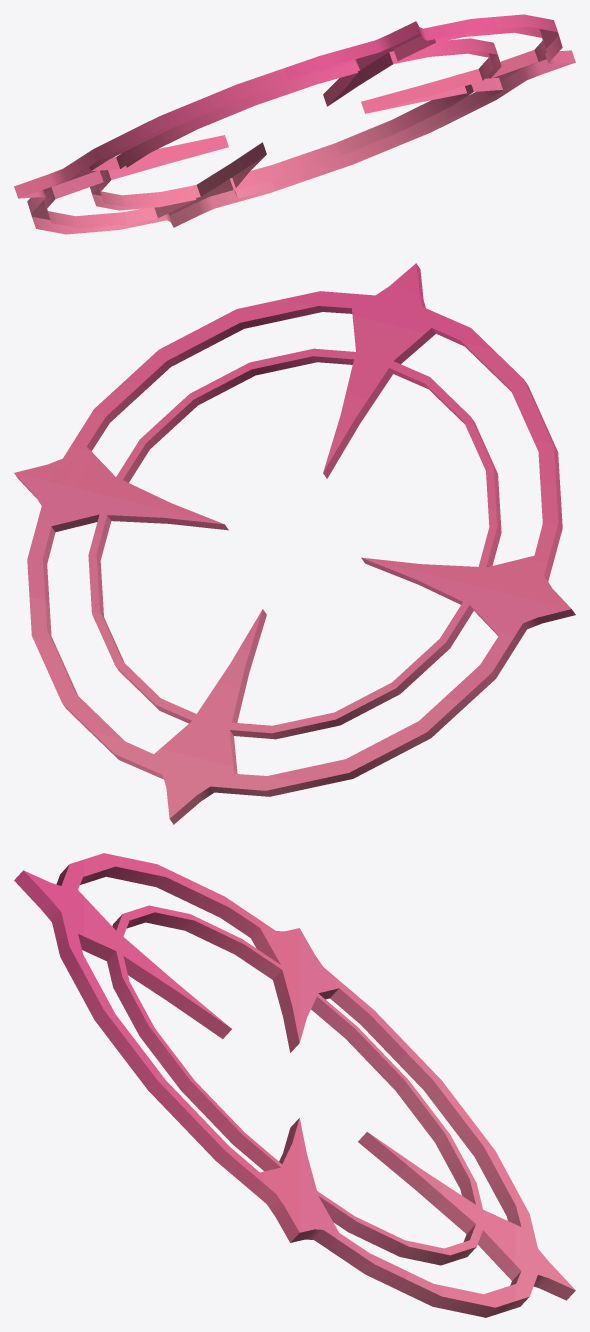
3 renders of one model, top to bottom at view 1: azimuth 30°, elevation 25°; view 2: azimuth 150°, elevation 25°; view 3: azimuth 270°, elevation 25°, orthographic. The views are drawn at different scales.
Parts seen in each view (by area): view 1: Momoi_Original_Halo; view 2: Momoi_Original_Halo; view 3: Momoi_Original_Halo.
Part boxes in pixels (bbox=[...]): Momoi_Original_Halo: bbox=[14, 14, 575, 234]; Momoi_Original_Halo: bbox=[14, 263, 575, 824]; Momoi_Original_Halo: bbox=[14, 853, 575, 1317].
Size of the model in its own units: 0.2985 by 0.1965 by 0.2326.
Materials: 1 (1 with a texture image).
